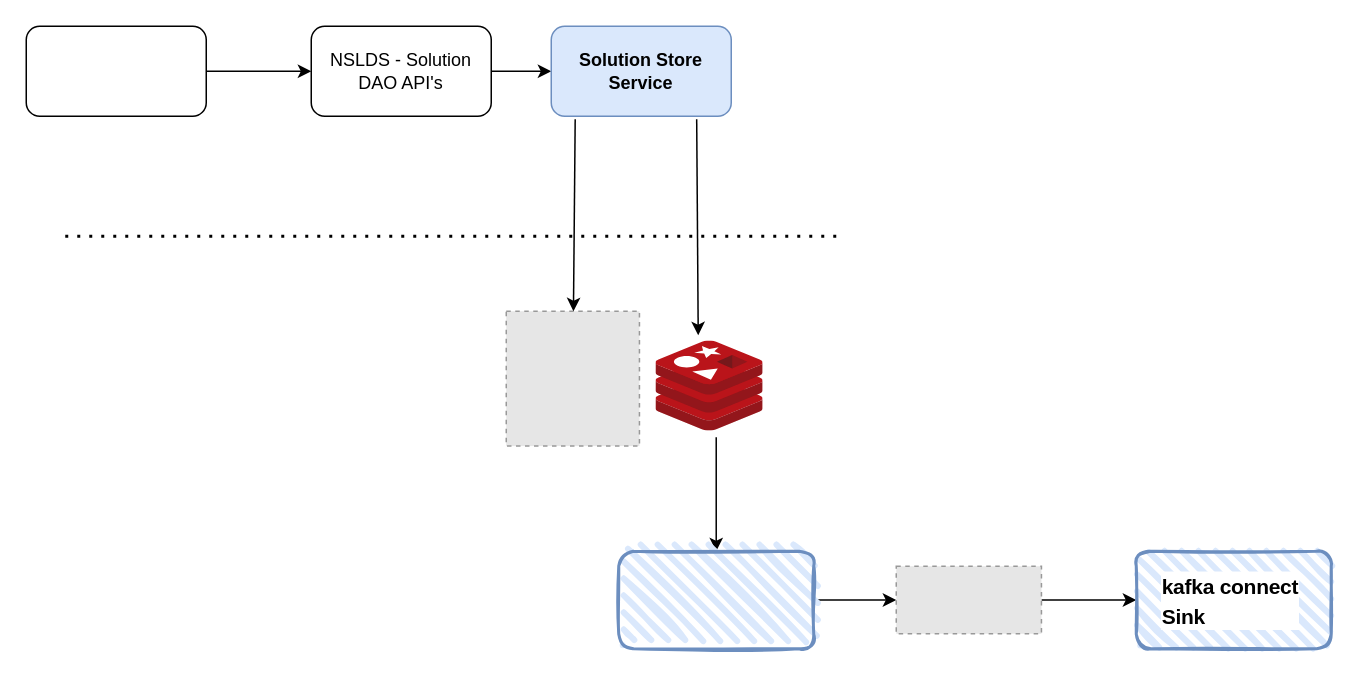
The diagram is 1359 pixels wide and 677 high, and some of its shapes have lost their labels. Grey dashed boxes stand in for pictures. Each missing label, with the centre of its shape:
"kafka connect Source" goes at point (715, 599).
"Services - TF/ DSD" goes at point (115, 70).
